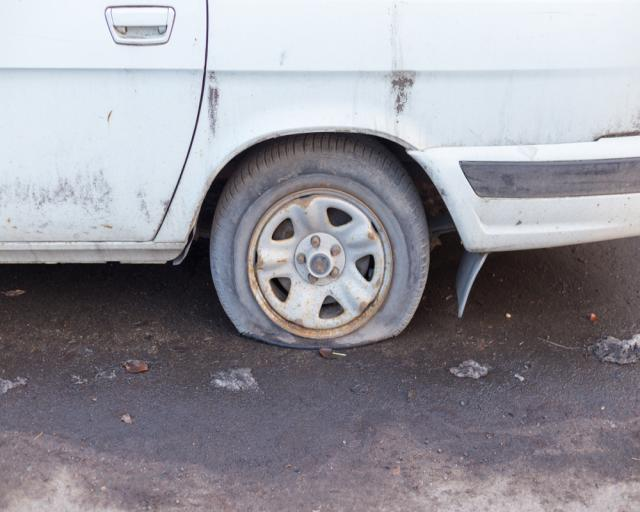tire flat: (211, 135, 431, 350)
